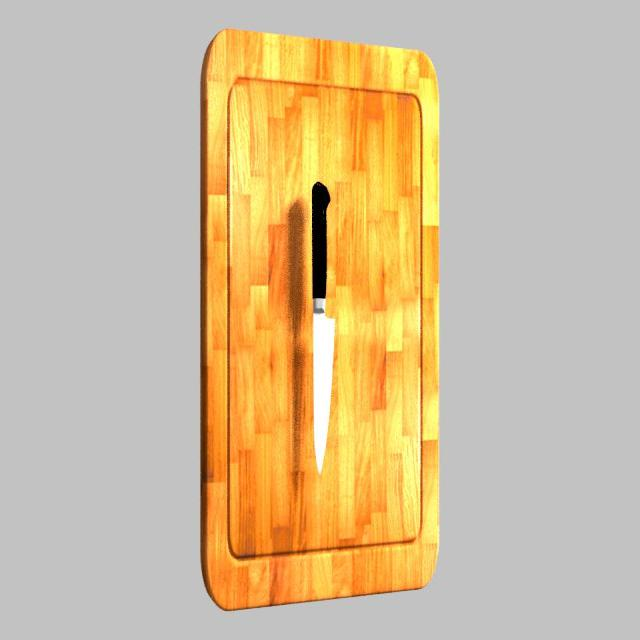knife: (312, 182, 330, 300)
